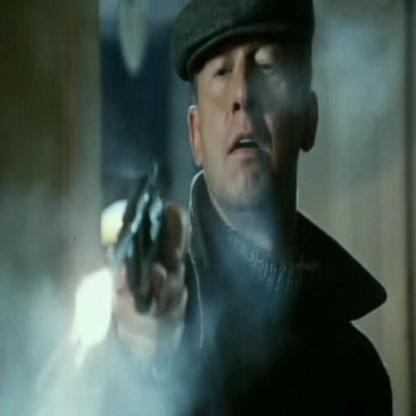gun: (91, 158, 171, 386)
